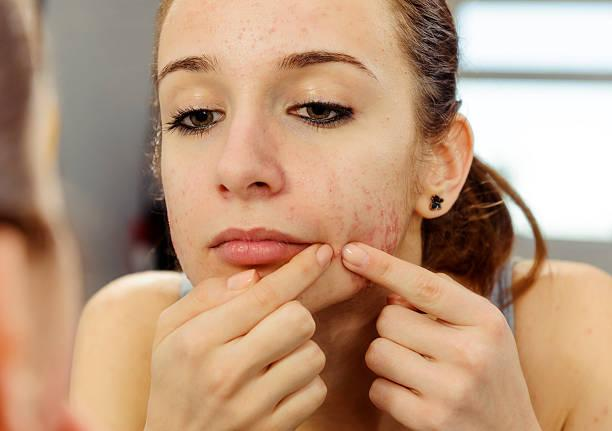Dry-Skin: (198, 141, 331, 251), (248, 0, 401, 84), (169, 14, 263, 130), (311, 179, 400, 263), (164, 157, 207, 248), (376, 162, 476, 183)
